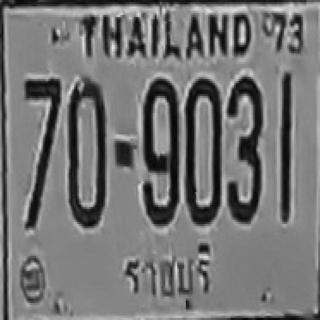N00: (67, 77, 107, 228), (184, 77, 220, 224), (143, 77, 179, 169)
N03: (225, 76, 262, 221)
N07: (24, 77, 60, 175)
N09: (141, 80, 179, 225)
P52: (121, 240, 212, 314)
